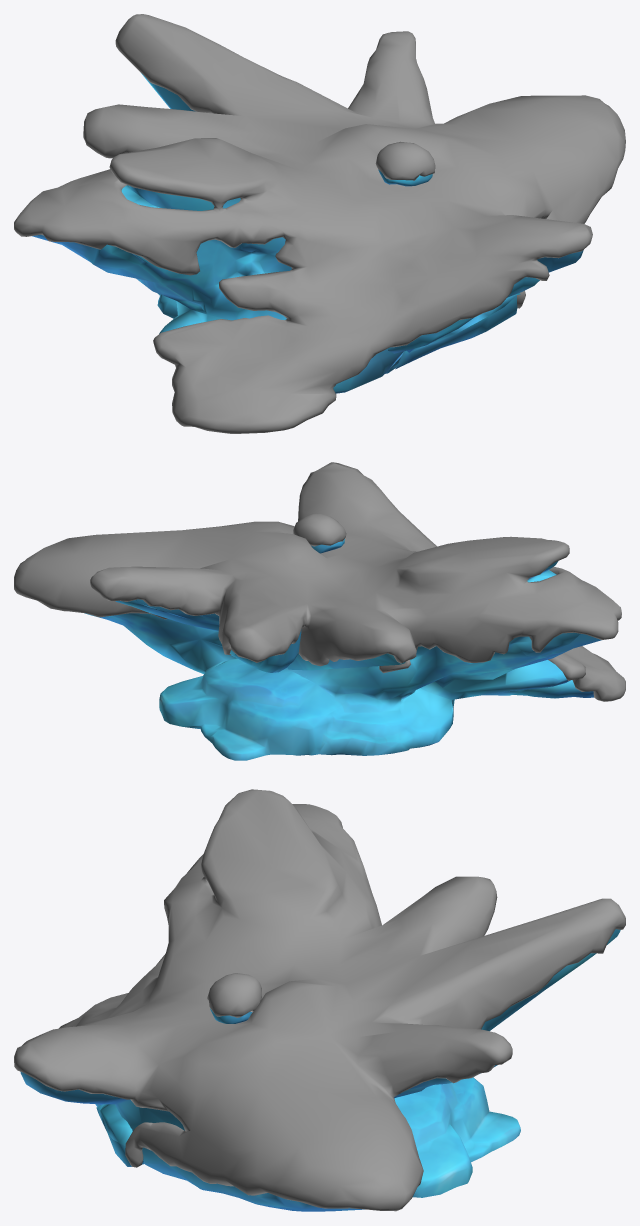
Rendered from iceberg.FBX.
3 views of the same model, one above another, from view 1: azimuth 30°, elevation 25°; view 2: azimuth 150°, elevation 25°; view 3: azimuth 270°, elevation 25° (orthographic). The views are drawn at different scales.
Visible parts, largest first — view 1: Group21629, Object001; view 2: Group21629, Object001; view 3: Group21629, Object001.
Boxes of the visible parts, <box> form: Group21629: <box>14,14,625,433</box>; Object001: <box>32,73,583,393</box>; Group21629: <box>14,462,625,701</box>; Object001: <box>85,539,601,760</box>; Group21629: <box>14,789,625,1211</box>; Object001: <box>20,929,620,1211</box>.
Bounding box in the file's own units: 29538 × 9612 × 23201.
